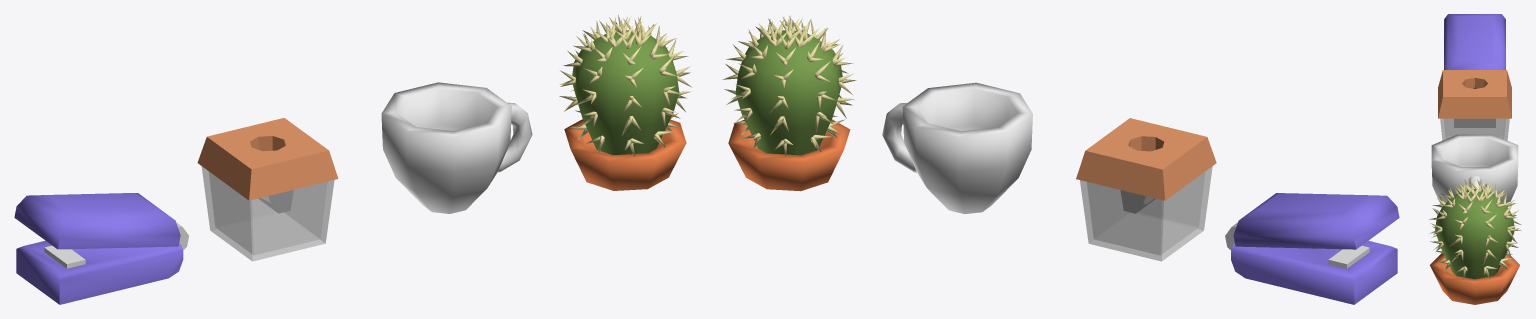
The model's file is OfficeItems.fbx.
3 renders of one model, left to right at view 1: azimuth 30°, elevation 25°; view 2: azimuth 150°, elevation 25°; view 3: azimuth 270°, elevation 25°, orthographic. The views are drawn at different scales.
Parts seen in each view (by area): view 1: Cactus, Terotin, Stapler, Espresso; view 2: Cactus, Terotin, Stapler, Espresso; view 3: Cactus, Espresso, Terotin, Stapler.
Part boxes in pixels (box(x1,y1,x2,y2)): Cactus: box(559, 15, 691, 190); Terotin: box(197, 118, 338, 261); Stapler: box(14, 193, 188, 304); Espresso: box(381, 82, 532, 213); Cactus: box(722, 15, 856, 191); Terotin: box(1076, 118, 1216, 261); Stapler: box(1225, 193, 1399, 304); Espresso: box(882, 82, 1032, 214); Cactus: box(1428, 179, 1521, 304); Espresso: box(1431, 134, 1518, 204); Terotin: box(1438, 70, 1511, 140); Stapler: box(1444, 14, 1505, 69).
Size of the model in its own units: 3.62 by 0.8053 by 0.6367.
